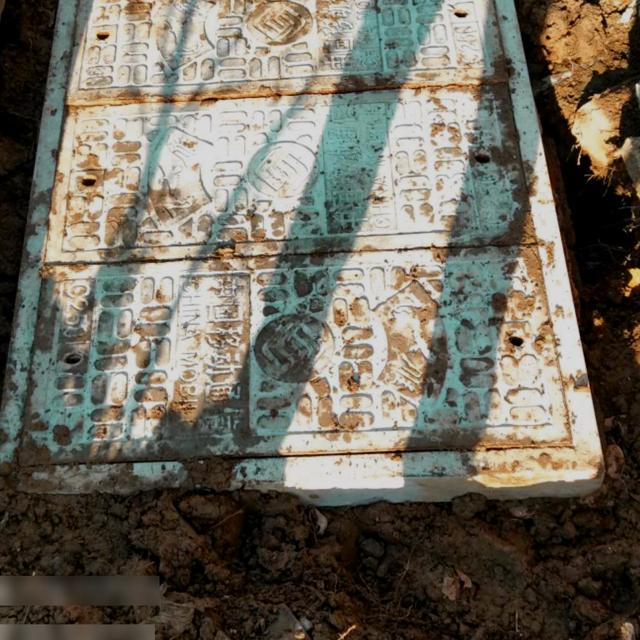good: (55, 0, 592, 467)
